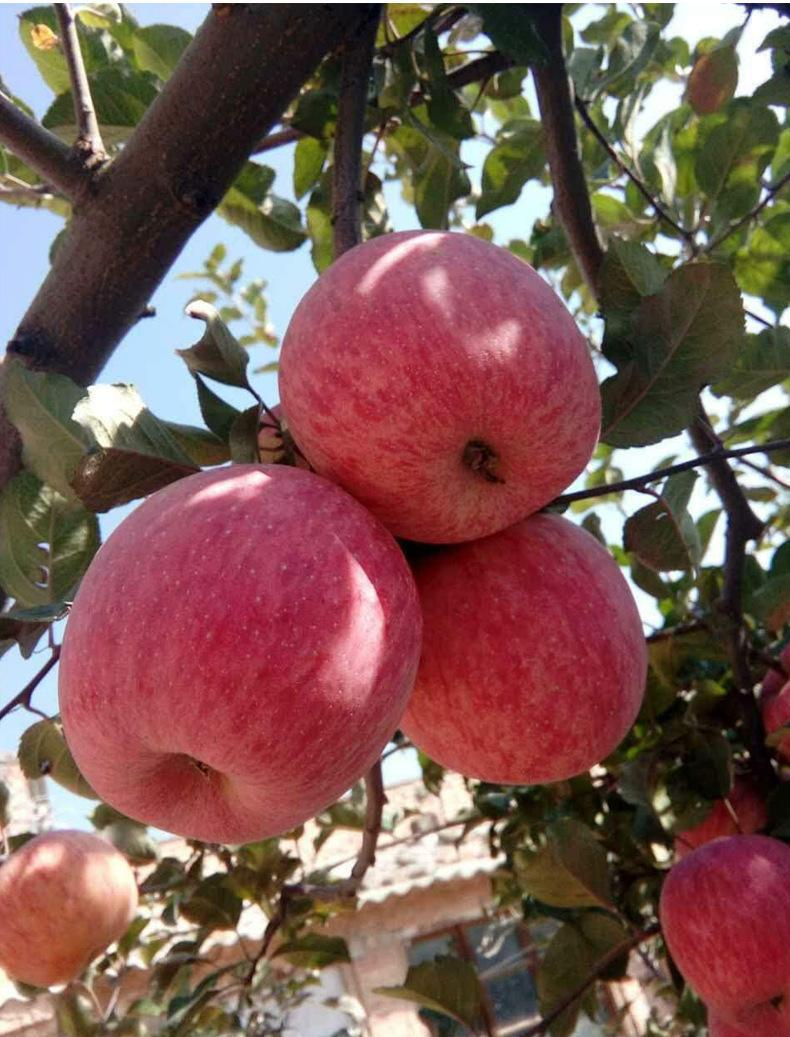apple: (53, 461, 422, 844), (289, 238, 599, 534), (397, 516, 642, 785), (1, 827, 139, 999)
